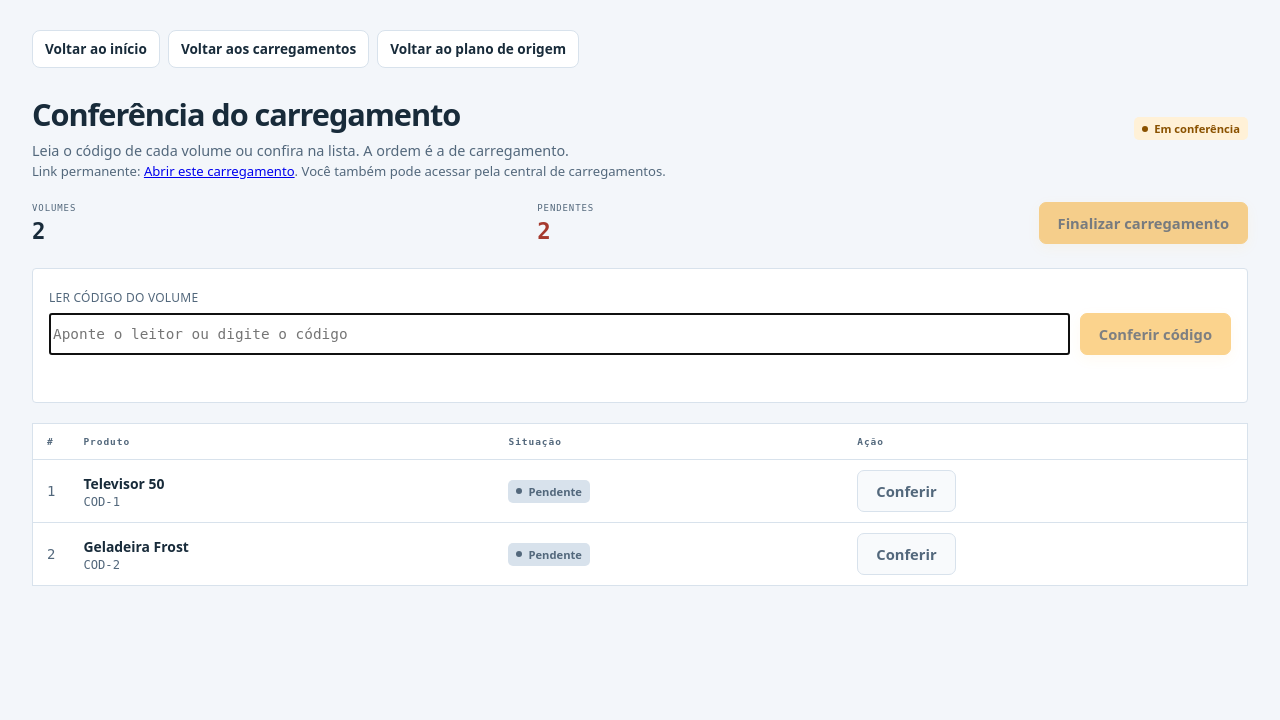
LoadingPage — leitura de código (OC75) › avisa quando foi o último volume
Expected: the text "Televisor 50" is shown, [83,474,164,493]
In the field labelled "LER CÓDIGO DO VOLUME": x=559, y=334 [49,313,1070,355], type "loadx:loading-item:22222222-2222-4222-8222-222222222222"
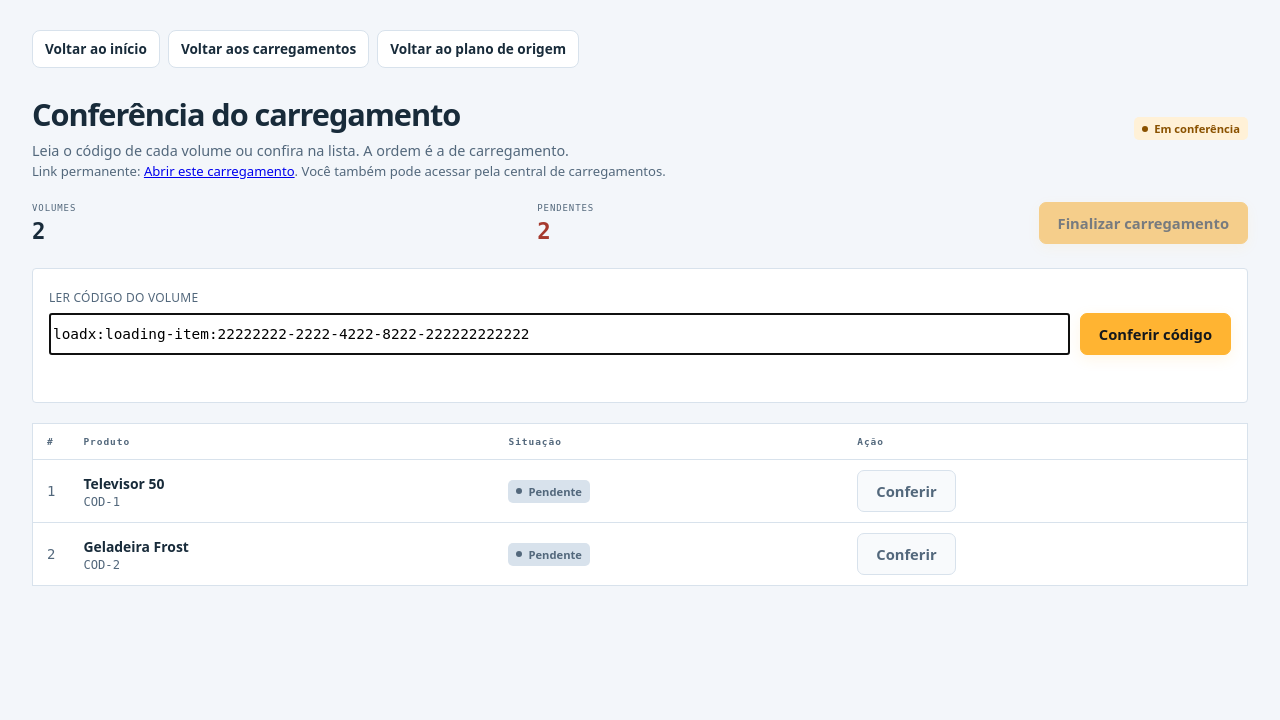
Submit the form labelled "LER CÓDIGO DO VOLUME", box [32,268,1248,403]
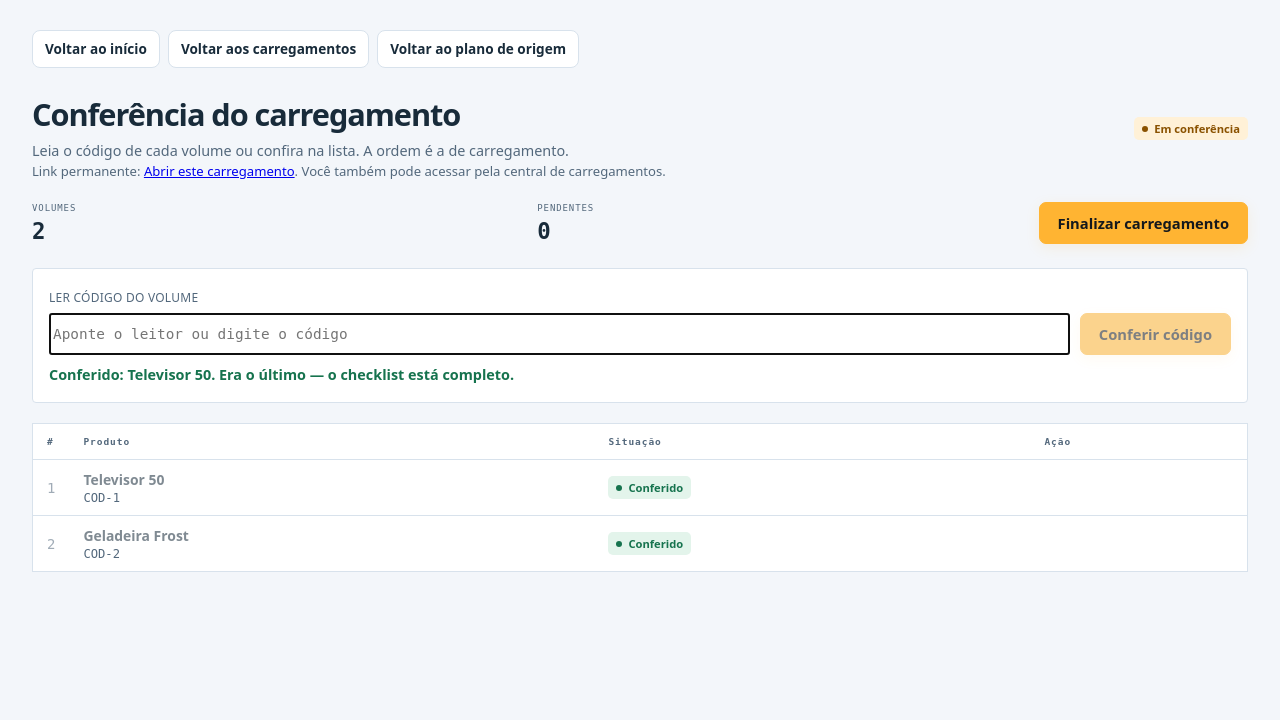
Expected: the message shows "último", [49,365,514,384]
